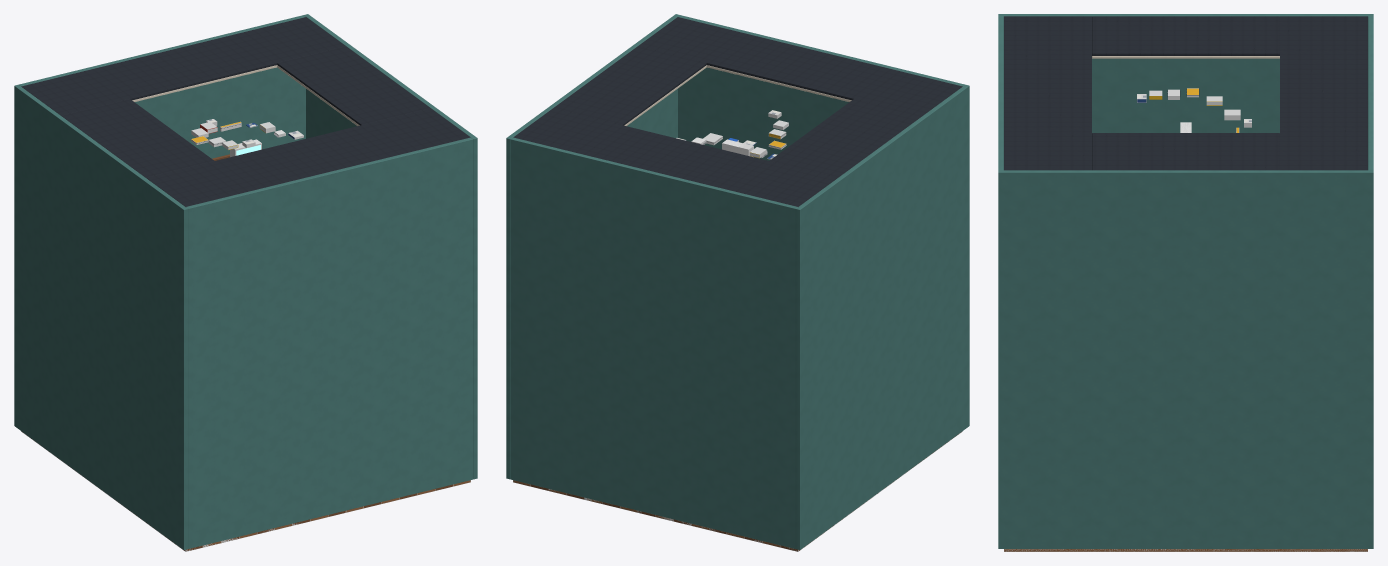
The model's file is zone-1.glb.
3 renders of one model, left to right at view 1: azimuth 30°, elevation 25°; view 2: azimuth 150°, elevation 25°; view 3: azimuth 270°, elevation 25°, orthographic. The views are drawn at different scales.
Parts seen in each view (by area): view 1: z1_scenery__wall__noshadow, z1_scenery__tile-dark__noshadow, z1_scenery__ceiling__noshadow; view 2: z1_scenery__wall__noshadow, z1_scenery__tile-dark__noshadow, z1_scenery__ceiling__noshadow; view 3: z1_scenery__wall__noshadow, z1_scenery__tile-dark__noshadow, z1_scenery__wood, COL_floor, z1_scenery__ceiling__noshadow.
Boxes of the visible parts, x1,y1,x2,y2 form: z1_scenery__wall__noshadow: (14,14,477,549); z1_scenery__tile-dark__noshadow: (21,17,470,206); z1_scenery__ceiling__noshadow: (132,65,359,125); z1_scenery__wall__noshadow: (506,14,969,549); z1_scenery__tile-dark__noshadow: (513,17,962,206); z1_scenery__ceiling__noshadow: (624,65,851,125); z1_scenery__wall__noshadow: (998,14,1373,548); z1_scenery__tile-dark__noshadow: (1004,16,1367,170); z1_scenery__wood: (1004,549,1367,551); COL_floor: (1004,549,1367,551); z1_scenery__ceiling__noshadow: (1092,56,1279,58).
Bounding box in the file's own units: 66 × 74 × 66.
Materials: 34 (25 with a texture image).
